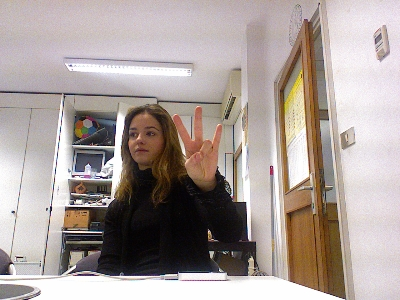观音: (171, 104, 223, 184)
